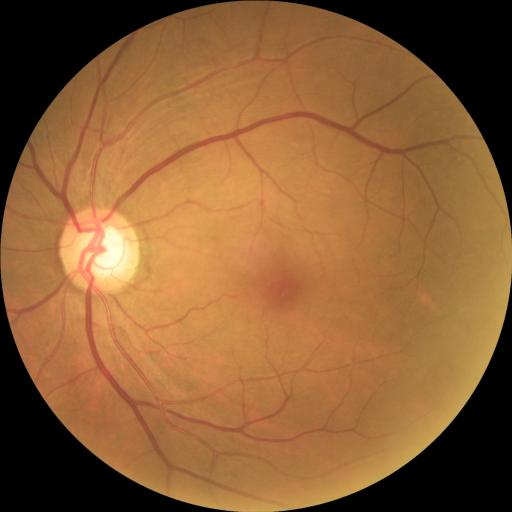Optic Cup: (83, 225, 127, 273)
Optic Disc: (59, 207, 140, 293)
